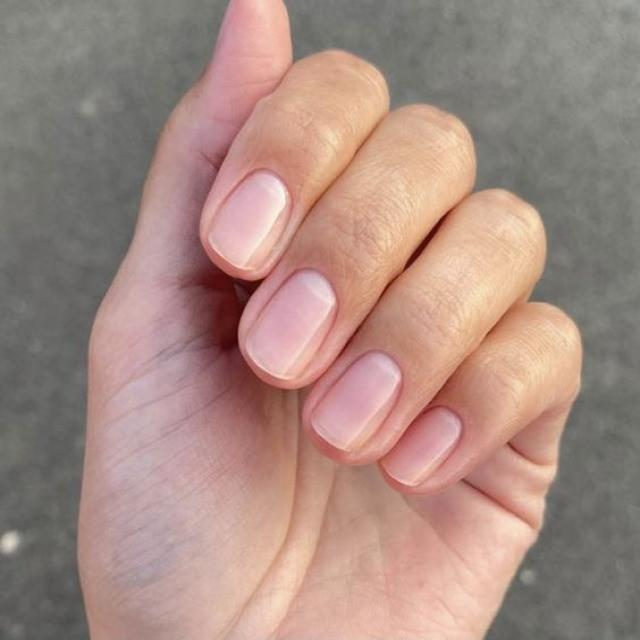Fingernail: (246, 267, 339, 381), (310, 351, 404, 453), (207, 169, 293, 269), (380, 406, 462, 486)
